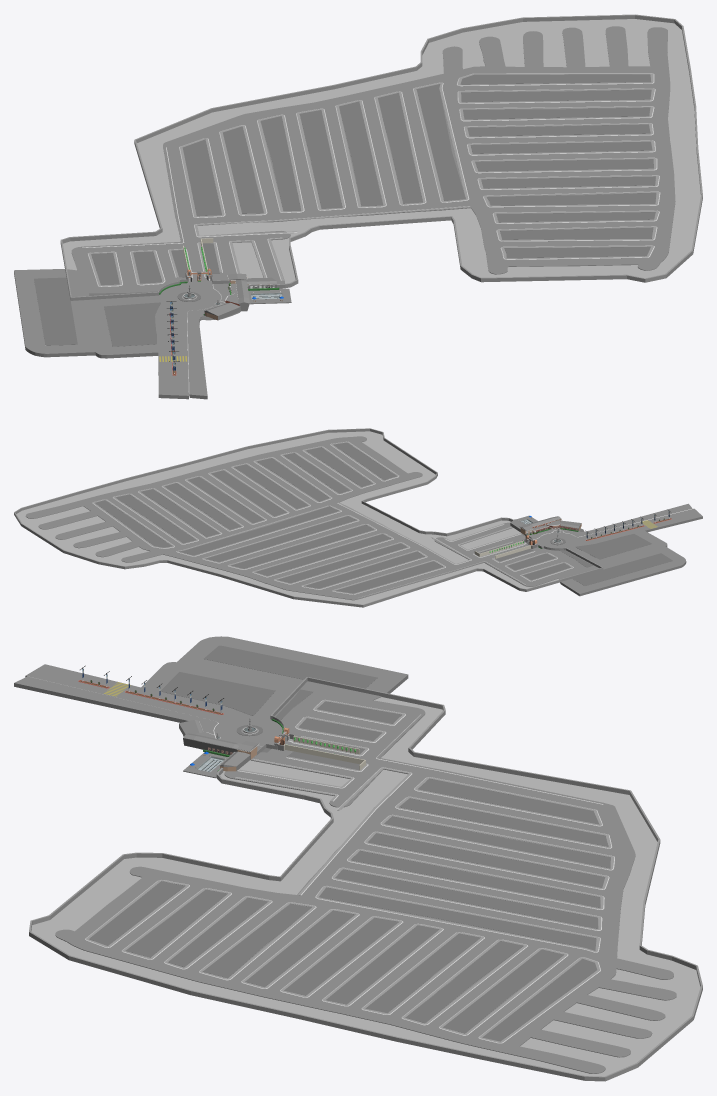
Rendered from housespawn.glb.
The picture shows the model from 3 angles, top to bottom: view 1: azimuth 30°, elevation 25°; view 2: azimuth 150°, elevation 25°; view 3: azimuth 270°, elevation 25°; orthographic projection. The views are drawn at different scales.
Visible parts, largest first — view 1: road, side_road, Plane.045, sidewalk.008, Plane.035, road.001, side_road.002, road.004, sidewalk.004; view 2: road, side_road, Plane.045, sidewalk.008, Plane.035, road.001, side_road.002, road.004, Cube.037, sidewalk.004; view 3: road, side_road, Plane.045, sidewalk.008, Plane.035, road.001, side_road.002, road.004, sidewalk.004.
Boxes of the visible parts, left/top/right/bottom form: road: left=68, top=26, right=675, bottom=399; side_road: left=89, top=74, right=656, bottom=295; Plane.045: left=63, top=19, right=700, bottom=288; sidewalk.008: left=179, top=73, right=660, bottom=280; Plane.035: left=60, top=14, right=702, bottom=300; road.001: left=14, top=242, right=185, bottom=358; side_road.002: left=34, top=277, right=160, bottom=346; road.004: left=187, top=283, right=229, bottom=399; sidewalk.004: left=81, top=147, right=184, bottom=247; road: left=25, top=436, right=702, bottom=600; side_road: left=95, top=442, right=593, bottom=593; Plane.045: left=16, top=431, right=558, bottom=604; sidewalk.008: left=92, top=441, right=503, bottom=594; Plane.035: left=14, top=428, right=603, bottom=607; road.001: left=493, top=530, right=686, bottom=596; side_road.002: left=572, top=534, right=672, bottom=585; road.004: left=521, top=503, right=692, bottom=539; Cube.037: left=519, top=516, right=561, bottom=534; sidewalk.004: left=359, top=561, right=525, bottom=598; road: left=25, top=664, right=676, bottom=1073; side_road: left=89, top=689, right=610, bottom=1041; Plane.045: left=31, top=697, right=700, bottom=1076; sidewalk.008: left=85, top=767, right=614, bottom=1043; Plane.035: left=29, top=677, right=702, bottom=1081; road.001: left=141, top=636, right=425, bottom=756; side_road.002: left=160, top=645, right=377, bottom=715; road.004: left=14, top=676, right=262, bottom=759; sidewalk.004: left=376, top=714, right=604, bottom=804.
Size of what is drawn, in the model's own units: 569 by 10.95 by 373.
Materials: 31 (9 with a texture image).
